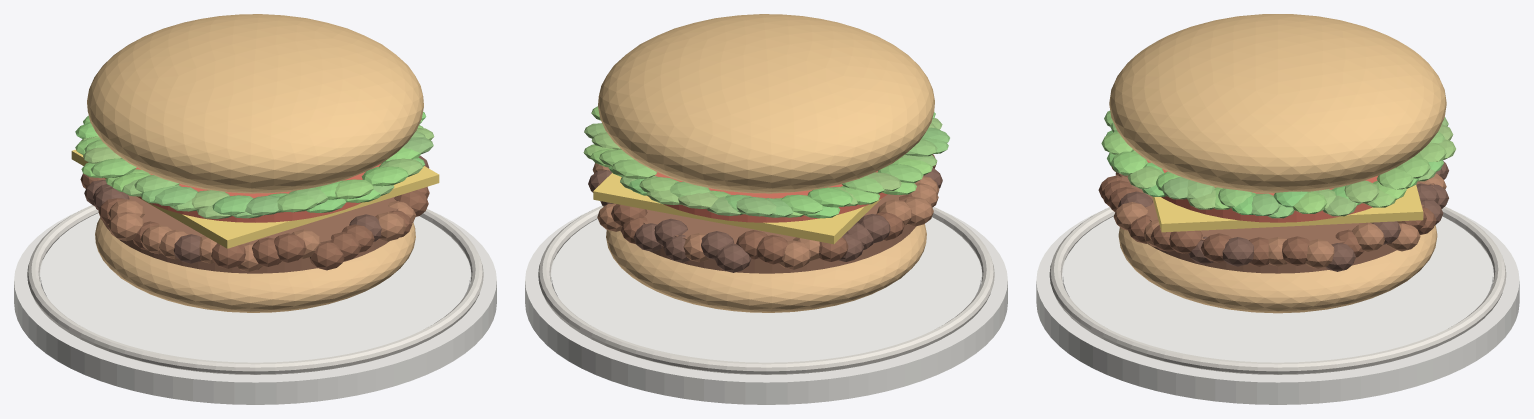
The model's file is burger.glb.
3 renders of one model, left to right at view 1: azimuth 30°, elevation 25°; view 2: azimuth 150°, elevation 25°; view 3: azimuth 270°, elevation 25°, orthographic.
Visible parts, largest first — view 1: part-123, part-2, part-1, part-4, part-3, part-5, part-56, part-57, part-30, part-21, part-19, part-70 (+21 smaller); view 2: part-123, part-2, part-1, part-4, part-3, part-56, part-5, part-57, part-41, part-39, part-38, part-97 (+19 smaller); view 3: part-123, part-2, part-1, part-4, part-3, part-56, part-5, part-57, part-8, part-54, part-51, part-55 (+18 smaller).
Part boxes in pixels (x1,y1,x2,y2): part-123: (87,14,423,193); part-2: (40,213,470,362); part-1: (14,210,496,404); part-4: (95,217,415,312); part-3: (27,205,483,374); part-5: (102,195,398,273); part-56: (71,149,439,248); part-57: (135,163,381,222); part-30: (108,212,143,241); part-21: (274,233,306,262); part-19: (309,241,344,270); part-70: (362,166,408,186); part-123: (598,14,934,193); part-2: (551,217,981,362); part-1: (525,210,1007,404); part-4: (606,224,926,312); part-3: (538,205,994,374); part-56: (593,173,880,244); part-5: (620,194,915,273); part-57: (648,171,887,222); part-41: (714,243,751,272); part-39: (756,235,788,264); part-38: (779,240,811,269); part-97: (807,187,853,207); part-123: (1109,14,1446,193); part-2: (1063,216,1492,362); part-1: (1036,211,1519,404); part-4: (1118,225,1437,313); part-3: (1049,206,1506,374); part-56: (1152,185,1423,232); part-5: (1122,176,1434,273); part-57: (1147,160,1378,222); part-8: (1222,237,1253,266); part-54: (1305,239,1334,268); part-51: (1352,222,1384,251); part-55: (1282,236,1309,265).
Size of the model in its own units: 0.312 by 0.181 by 0.312.
